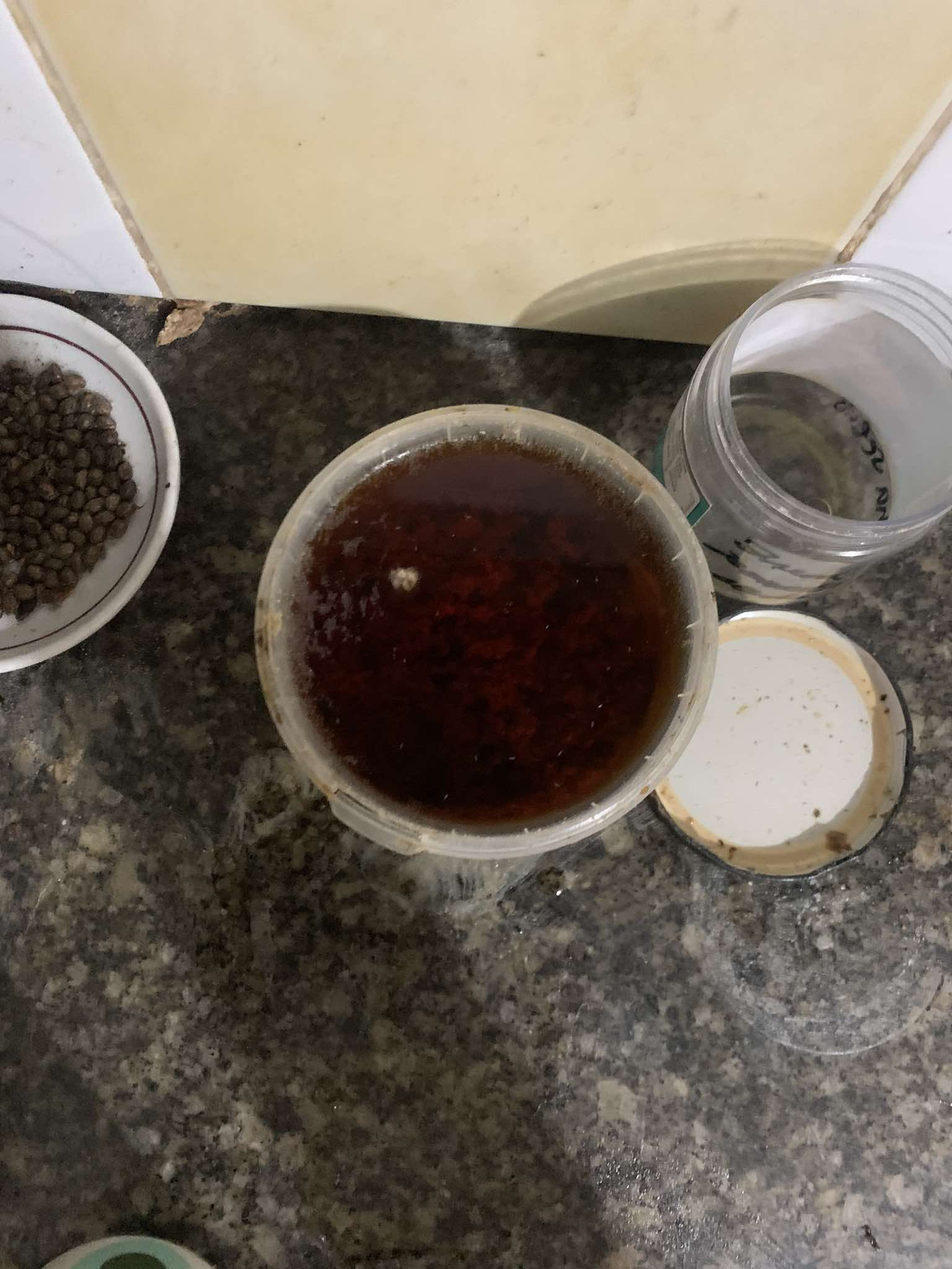non-reusable: (294, 437, 688, 824)
